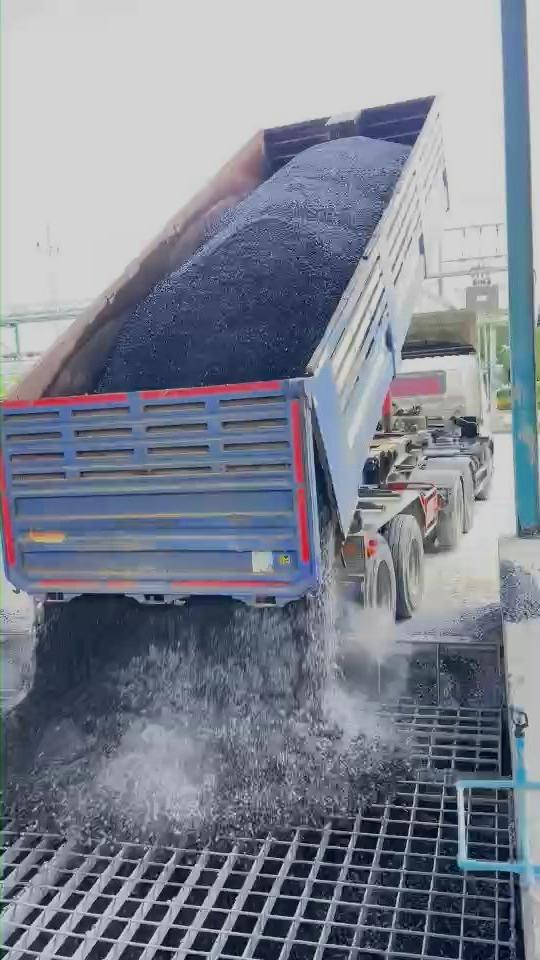gravel: (3, 598, 409, 841), (97, 137, 409, 391), (406, 561, 540, 705)
